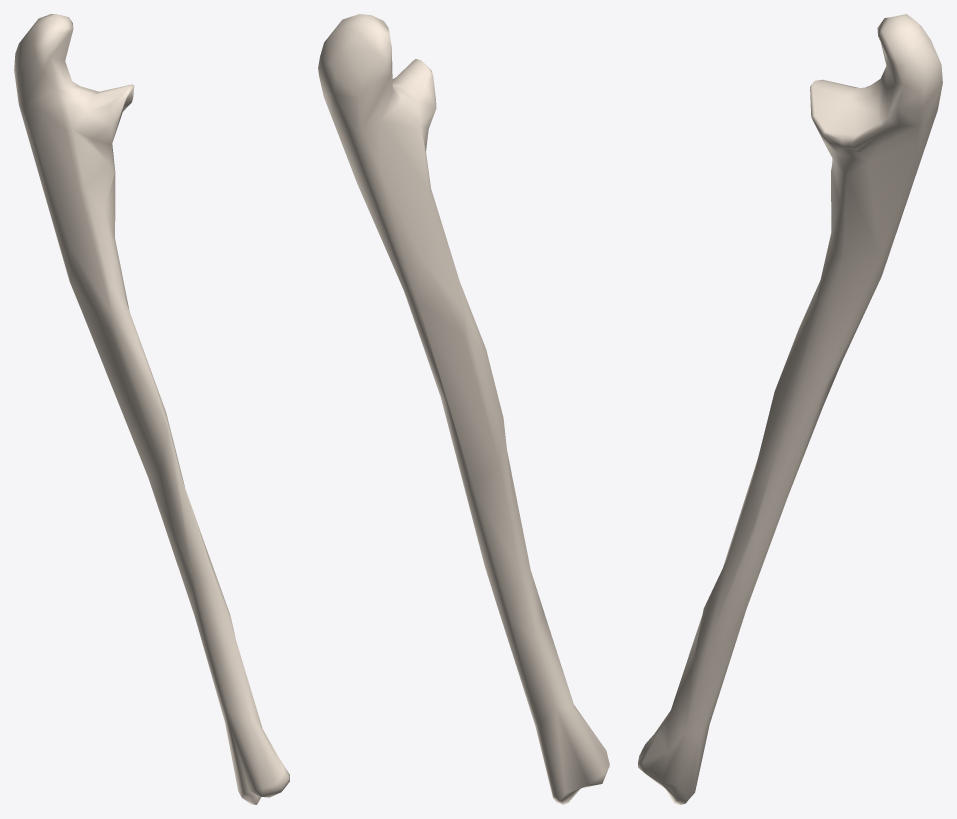
Rendered from right_ulna.glb.
3 renders of one model, left to right at view 1: azimuth 90°, elevation 25°; view 2: azimuth 150°, elevation 25°; view 3: azimuth 270°, elevation 25°, orthographic. The views are drawn at different scales.
Visible parts, largest first — view 1: Ulna.r; view 2: Ulna.r; view 3: Ulna.r.
Part boxes in pixels (x1,y1,x2,y2): Ulna.r: [14, 14, 289, 804]; Ulna.r: [318, 14, 609, 804]; Ulna.r: [638, 14, 942, 804].
Size of the model in its own units: 0.0302 by 0.1541 by 0.0513.
